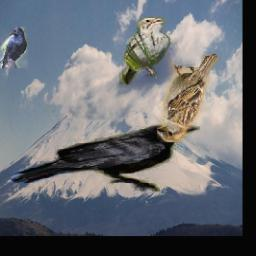Crow: (10, 123, 200, 192), (0, 27, 28, 68)
Sparrow: (157, 55, 218, 143), (118, 16, 171, 84)
